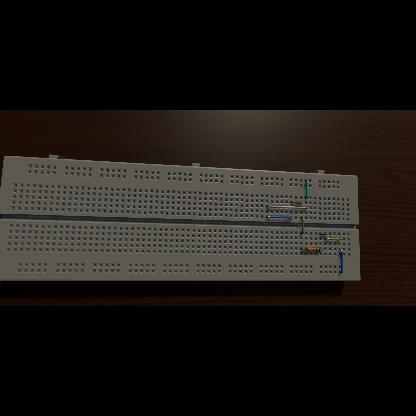breadboard: (0, 155, 360, 281)
resistor: (306, 248, 320, 252)
wire: (266, 206, 308, 210), (339, 250, 343, 274), (300, 218, 304, 234), (306, 181, 309, 199), (265, 217, 292, 219), (324, 238, 342, 240), (291, 202, 303, 204), (320, 233, 326, 235), (300, 248, 306, 250), (320, 249, 322, 250)
